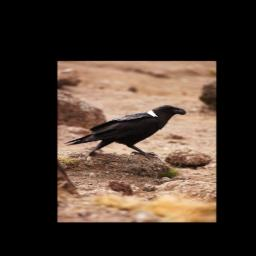Crow: (64, 103, 188, 162)
